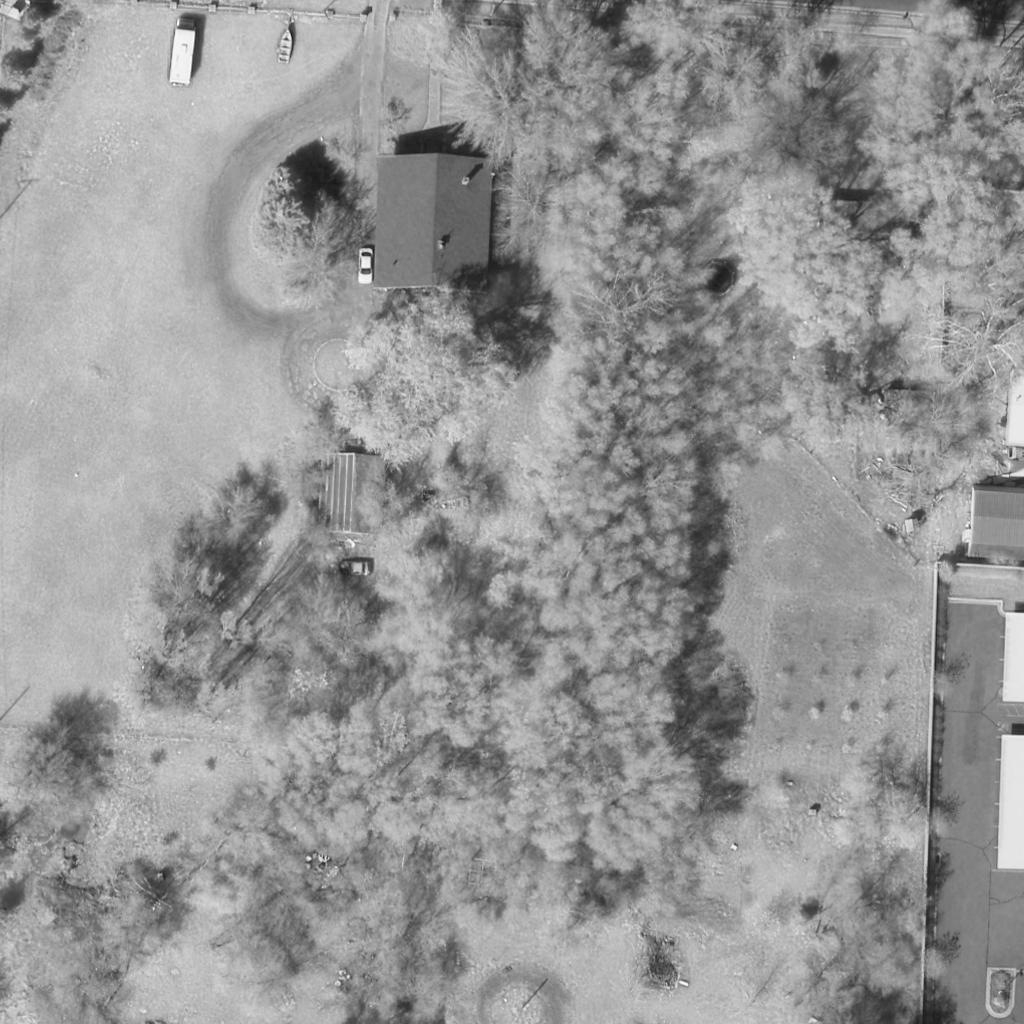vehicle: (168, 18, 200, 86), (275, 25, 297, 65), (328, 562, 372, 578), (358, 249, 374, 285)
